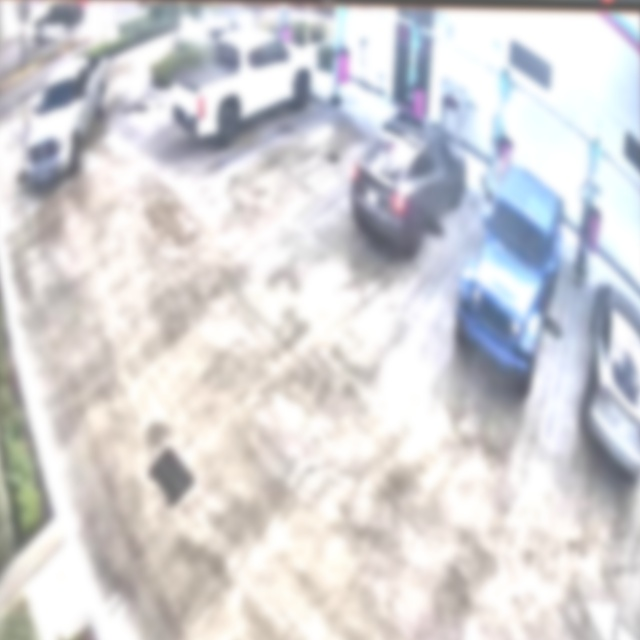Car: (455, 168, 567, 402), (352, 109, 468, 254)
